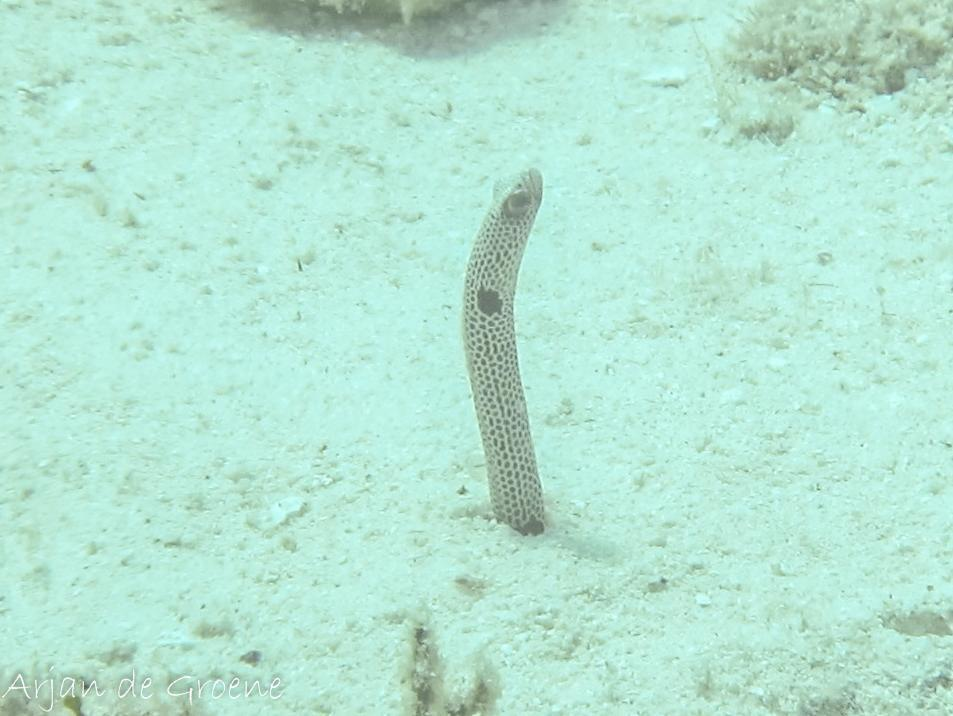Fish: (456, 163, 568, 545)
